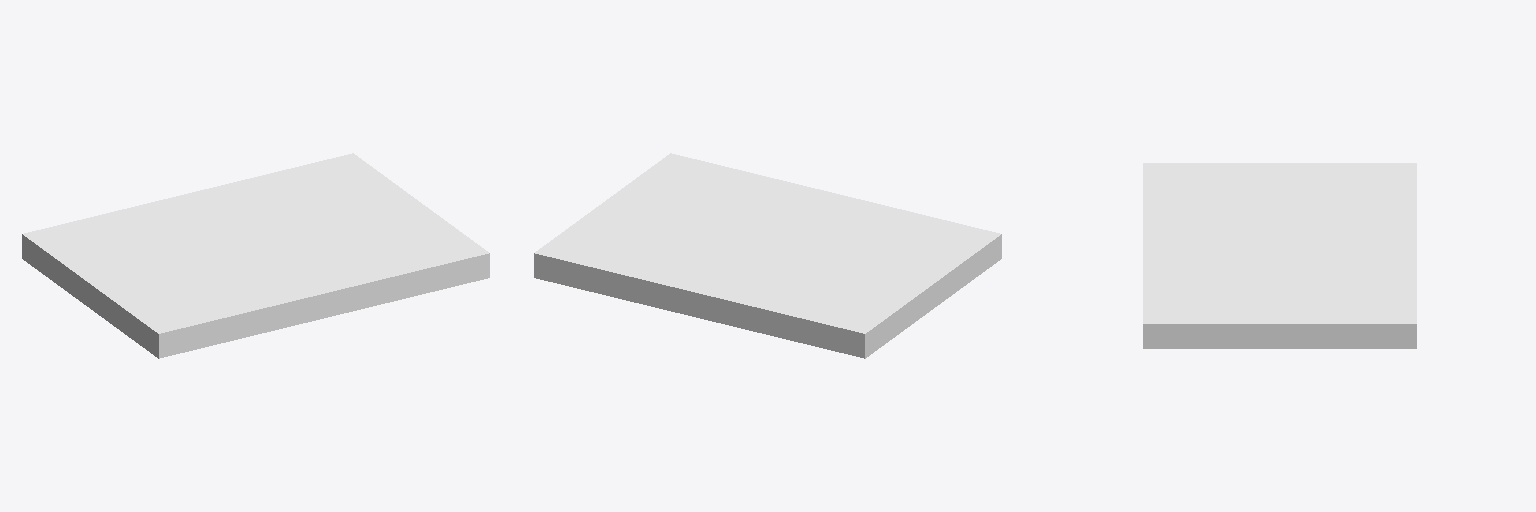
File: book_1.obj
The picture shows the model from 3 angles: view 1: azimuth 30°, elevation 25°; view 2: azimuth 150°, elevation 25°; view 3: azimuth 270°, elevation 25°; orthographic projection.
Visible parts, largest first — view 1: object 1; view 2: object 1; view 3: object 1.
Part boxes in pixels (x1,y1,x2,y2): object 1: (22, 153, 489, 358); object 1: (534, 153, 1001, 358); object 1: (1143, 163, 1416, 348).
Size of the model in its own units: 1.4 by 0.1 by 1.